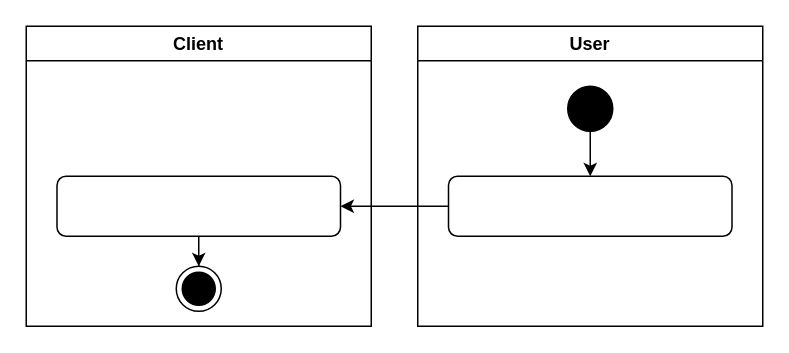
Some shapes in this 789 by 353 pixel diagram are drawn without their labels. The shapes that lost their labels are listed below. From the top down, each one's centre as x and y in pixels, then its label:
At (198,205): "Show My Page (Initial state: Interest List".
At (589,205): "Request user page".
